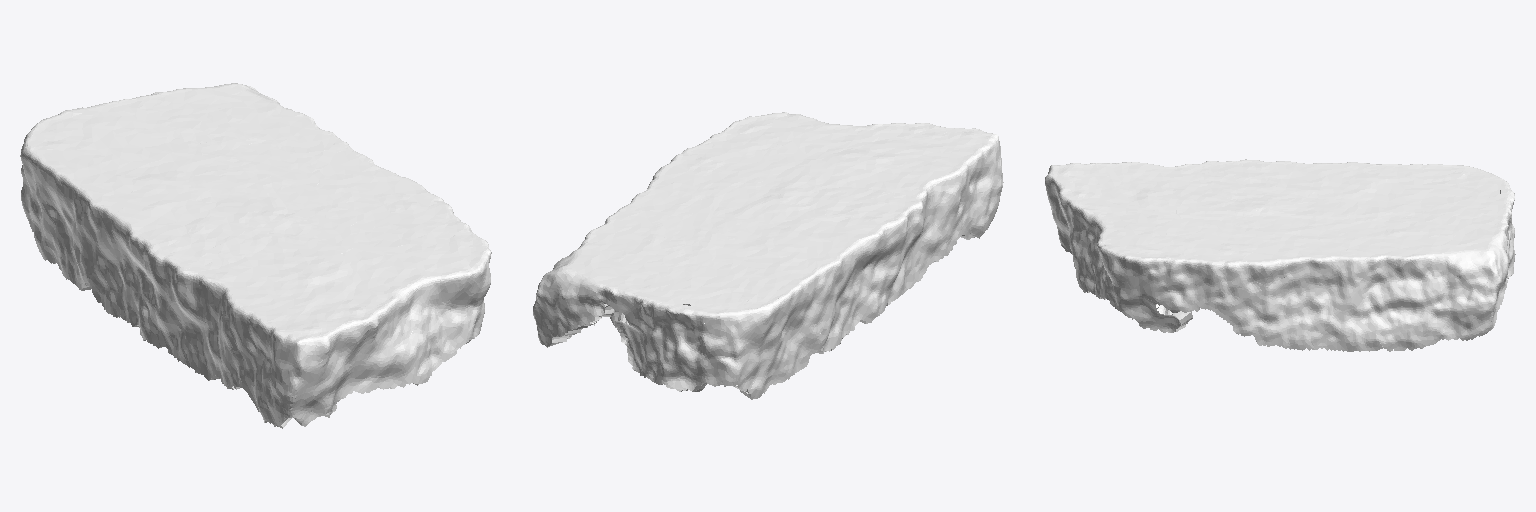
URDF robot description (frag2_top_calib_scaled):
<?xml version="1.0"?>
<robot name="frag2_top_calib_scaled">
  <material name="Blanc">
    <color rgba="1.0 1.0 1.0 1.0"/>
  </material>
  <link name="base_link">
    <visual>
      <origin xyz="0 0 0" rpy="0 0 0"/>
      <geometry>
        <mesh filename="frag2_small.stl"/>
      </geometry>
      <material name="Blanc"/>
    </visual>
    <collision>
      <origin xyz="0 0 0" rpy="0 0 0"/>
      <geometry>
	 	     <mesh filename="frag2_small.stl"/>
      </geometry>
    </collision>
    <contact>
      <lateral_friction value="2.0"/>
      <rolling_friction value="0.0001"/>
      <inertia_scaling value="3.0"/>
    </contact>
    <inertial>
      <origin rpy="0 0 0" xyz="0 0 0"/>
       <mass value="0.05"/>
       <inertia ixx="1" ixy="0" ixz="0" iyy="1" iyz="0" izz="1"/>
    </inertial>
  </link>

</robot>

--- What the picture shows (computed from the rendered views, not written in the file) ---
Views: 3 orthographic renders of the robot side by side, from view 1: azimuth 30°, elevation 25°; view 2: azimuth 150°, elevation 25°; view 3: azimuth 270°, elevation 25°.
Robot: frag2_top_calib_scaled — 1 links, 0 joints (none); root link base_link; default pose: every joint at zero.
Visible links, largest first — view 1: base_link; view 2: base_link; view 3: base_link.
Link boxes in pixels (bbox=[...]): base_link: bbox=[20, 83, 491, 428]; base_link: bbox=[533, 112, 1003, 399]; base_link: bbox=[1045, 159, 1515, 351].
Size in the robot's own frame: 0.0518 by 0.0966 by 0.0204 metres.
1 mesh visuals loaded from 1 distinct referenced files (1 binary STL).
